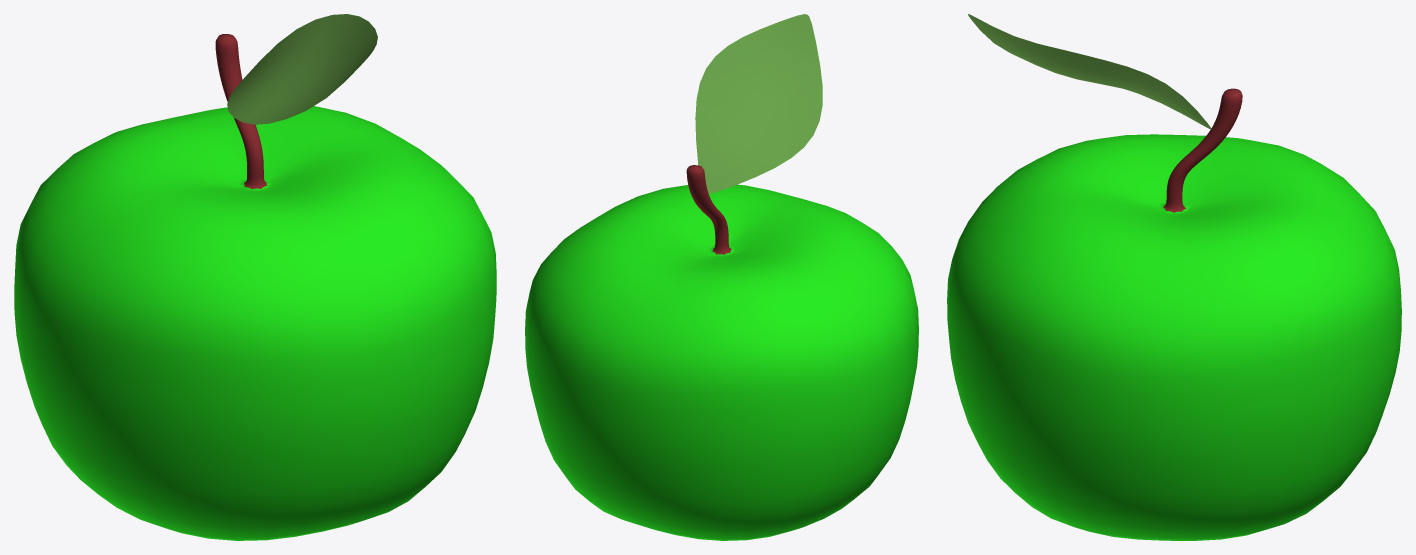
The model's file is Smooth_apple_1.fbx.
3 views of the same model, side by side, from view 1: azimuth 30°, elevation 25°; view 2: azimuth 150°, elevation 25°; view 3: azimuth 270°, elevation 25° (orthographic). The views are drawn at different scales.
Parts seen in each view (by area): view 1: Smooth_apple_0; view 2: Smooth_apple_0; view 3: Smooth_apple_0.
Boxes of the visible parts, left/top/right/bottom form: Smooth_apple_0: left=14, top=14, right=496, bottom=540; Smooth_apple_0: left=525, top=14, right=918, bottom=540; Smooth_apple_0: left=947, top=14, right=1401, bottom=540.
Size of the model in its own units: 199 by 231 by 199.
